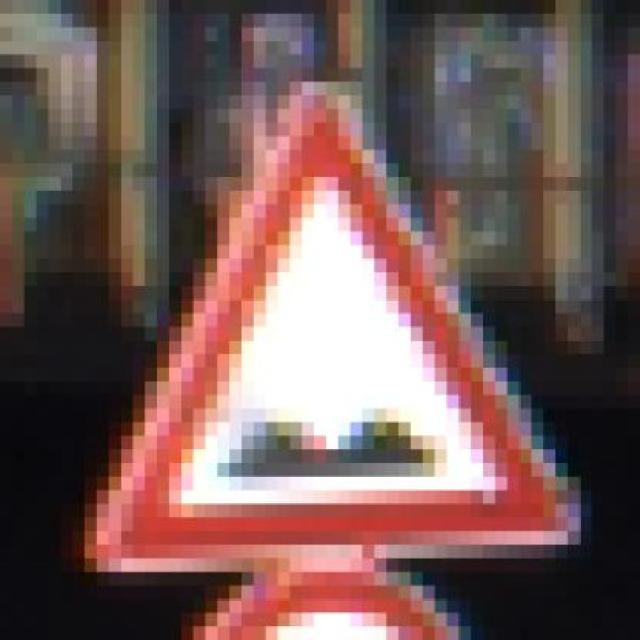Uneven Road: (72, 81, 605, 558)
